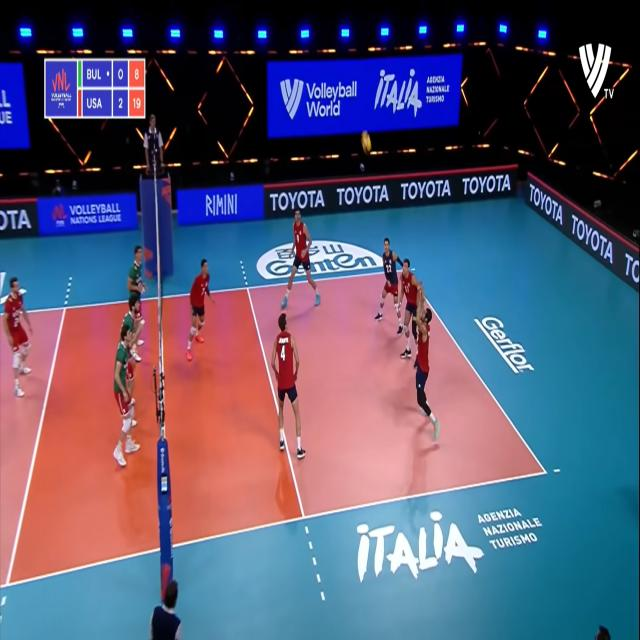player: (270, 310, 311, 463), (0, 274, 42, 406), (278, 208, 324, 315), (415, 300, 445, 447), (182, 250, 215, 360), (117, 327, 142, 468), (397, 258, 427, 364), (377, 240, 400, 320), (128, 242, 148, 326), (122, 294, 146, 356)
